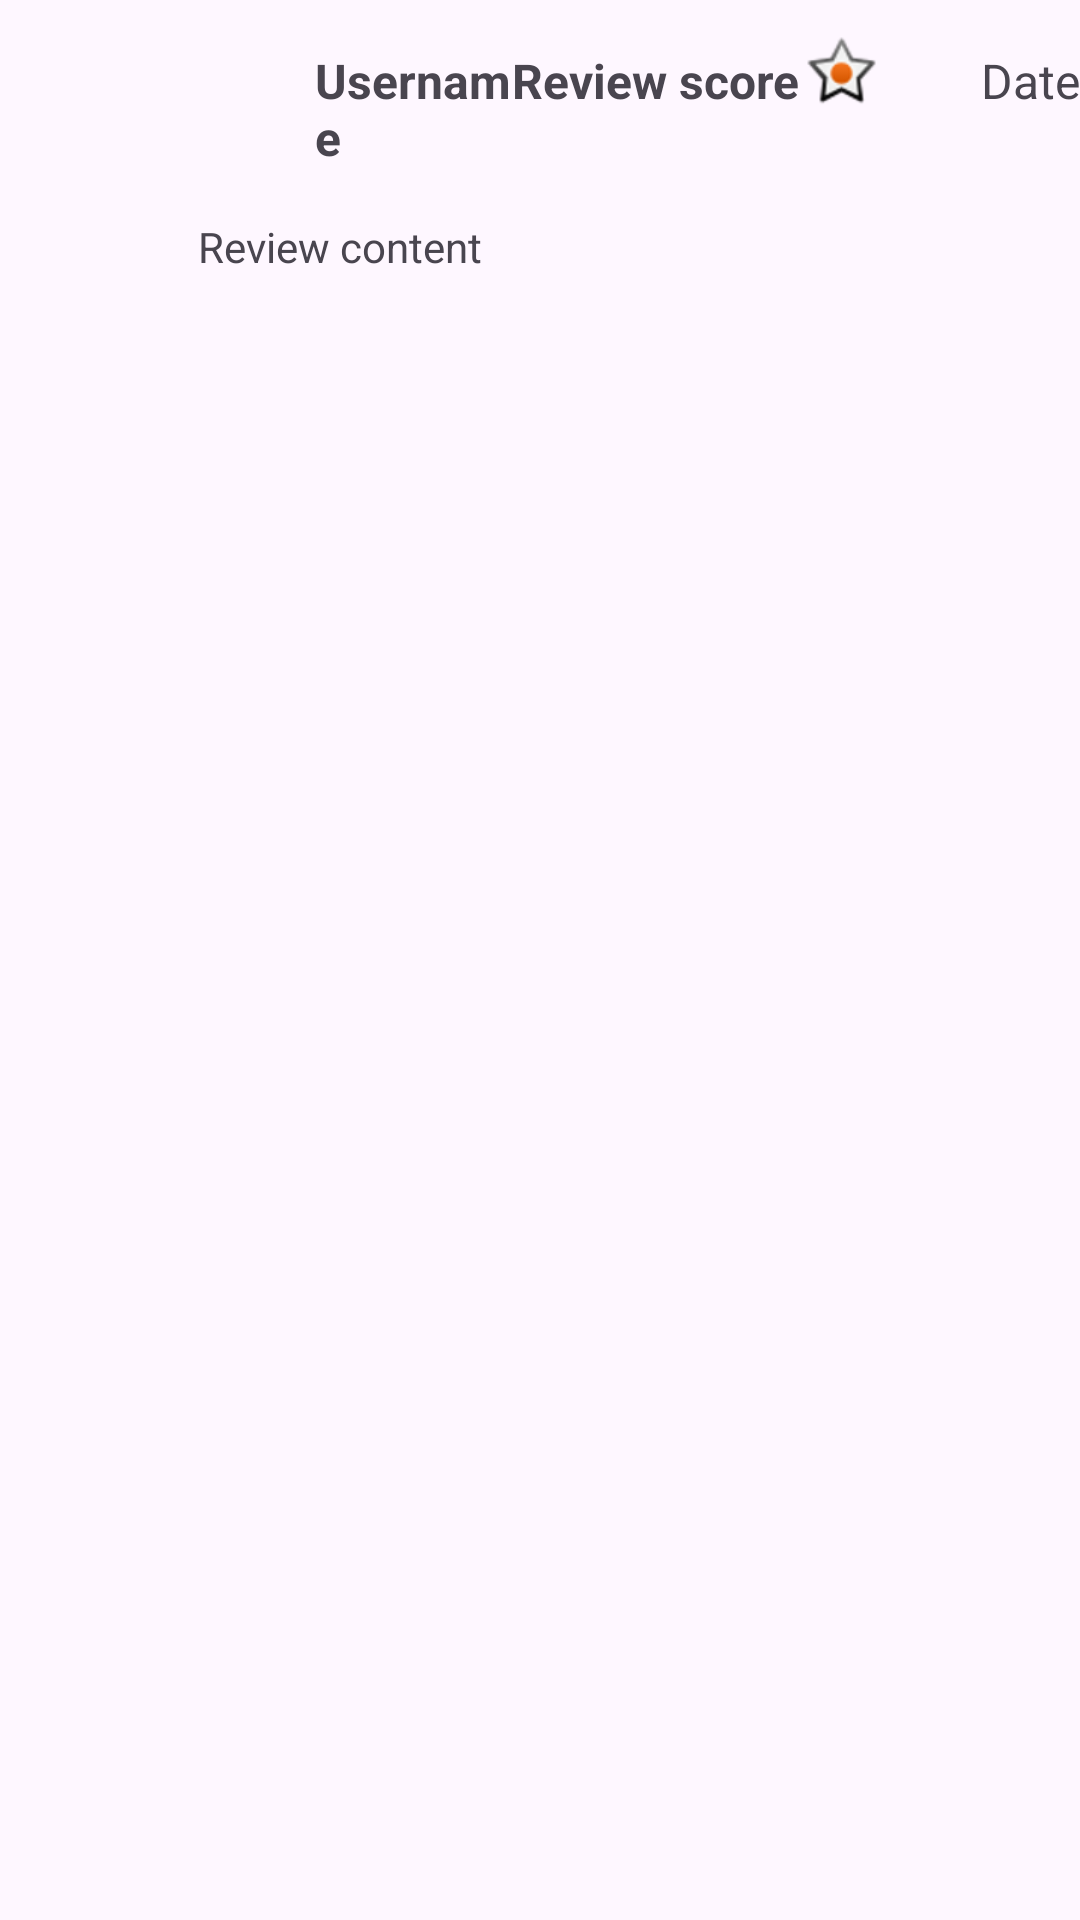

Icons on this 1080px x 1920px Android screen, each with the point to tap as (x,y):
star on: (841,70)
